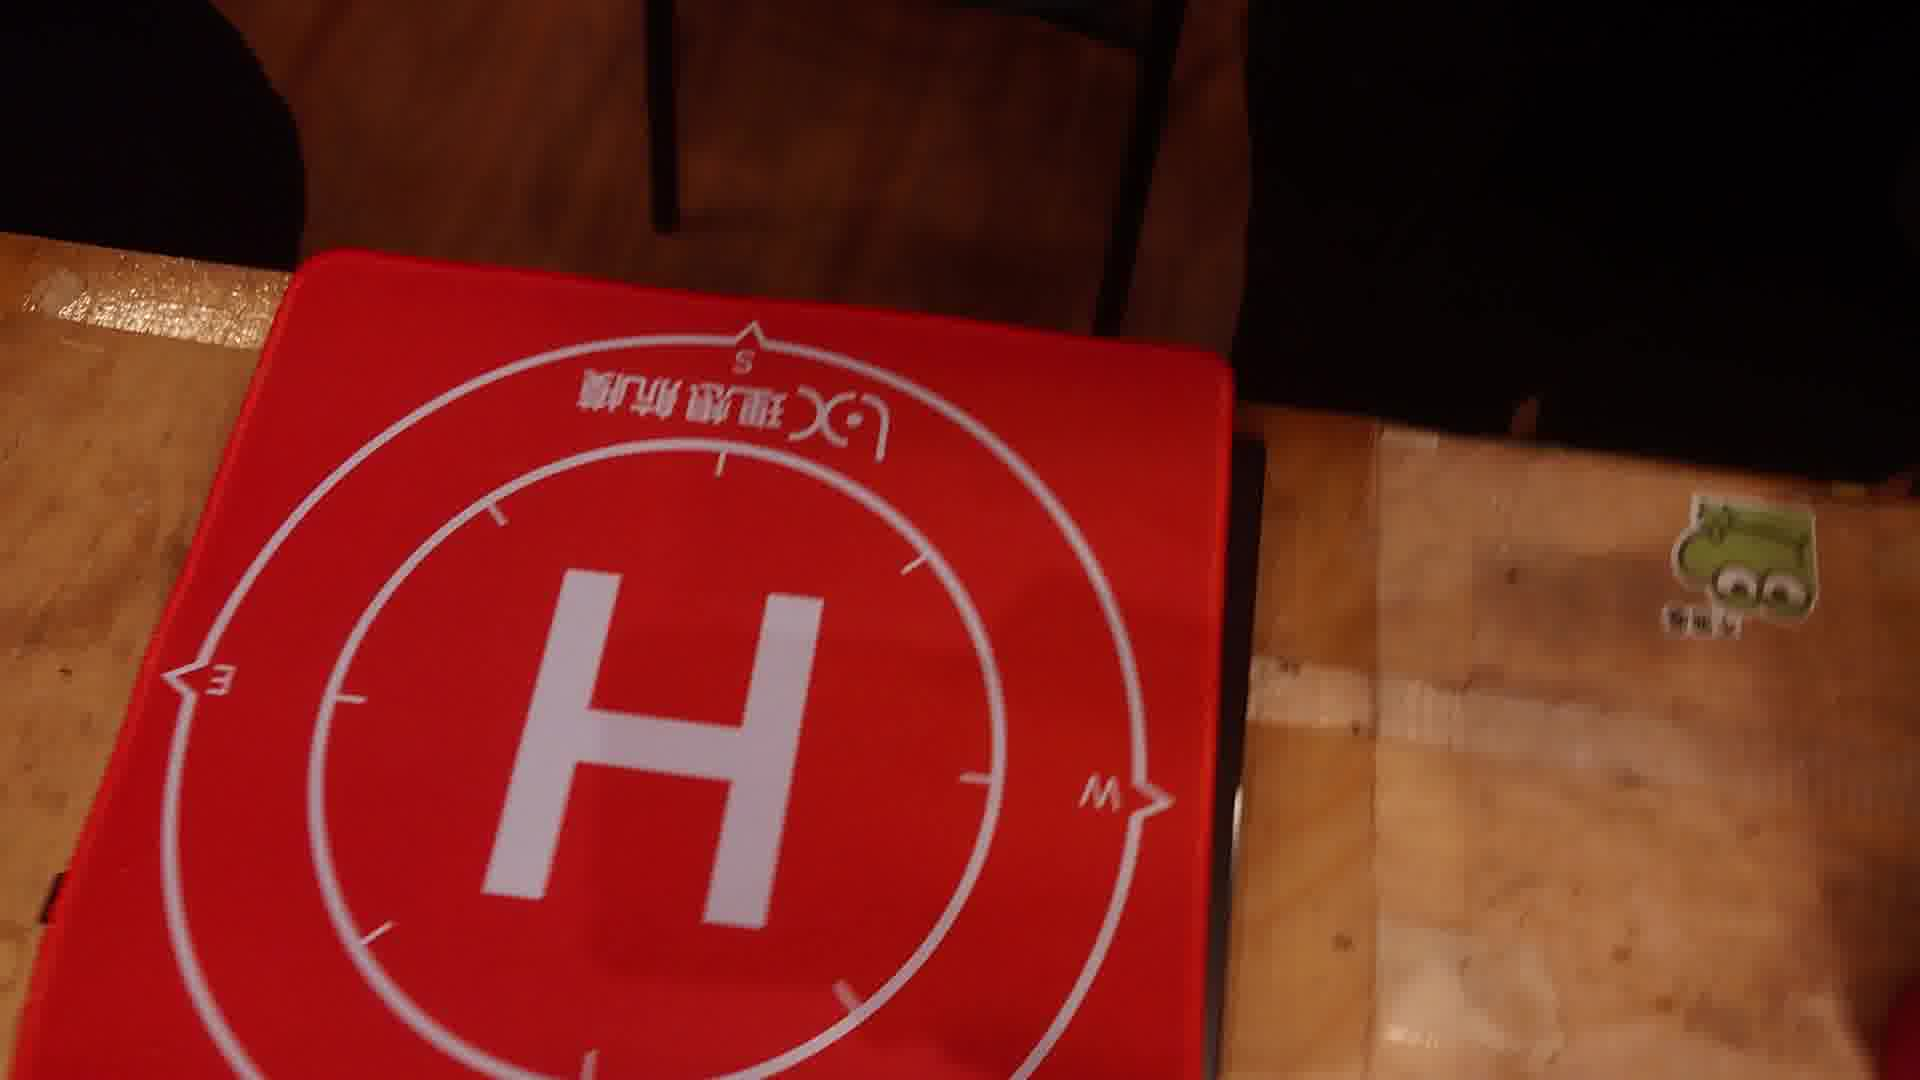H: (477, 568, 825, 931)
